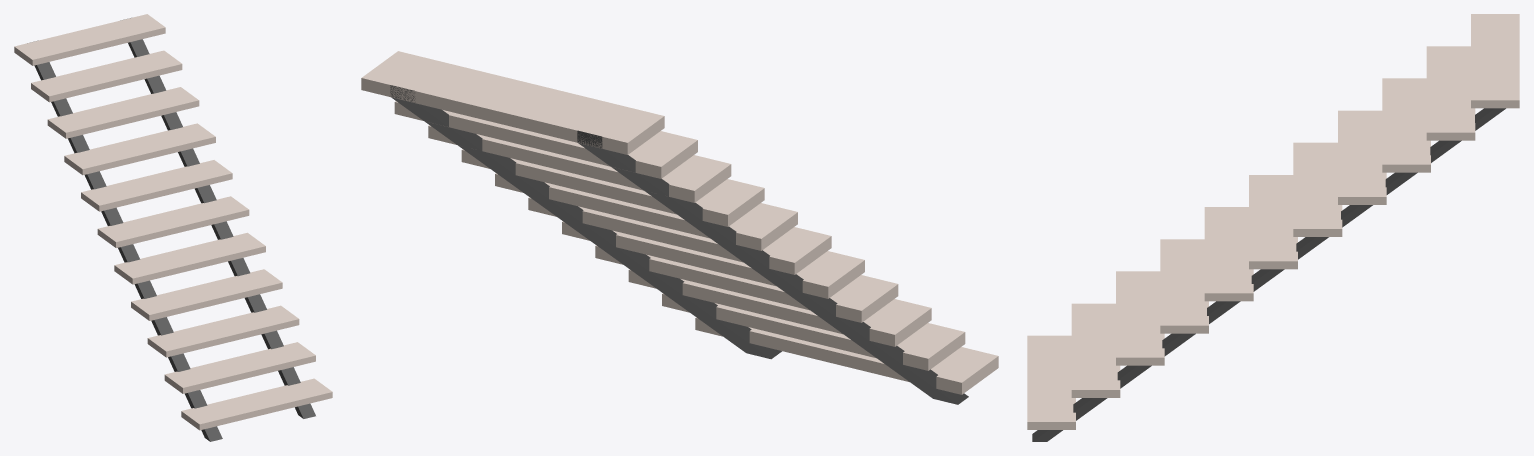
Rendered from Stairs_1.fbx.
3 views of the same model, side by side, from view 1: azimuth 30°, elevation 25°; view 2: azimuth 150°, elevation 25°; view 3: azimuth 270°, elevation 25° (orthographic). The views are drawn at different scales.
Visible parts, largest first — view 1: Stairs_1; view 2: Stairs_1; view 3: Stairs_1.
Part boxes in pixels (x1,y1,x2,y2): Stairs_1: (14, 14, 332, 441); Stairs_1: (361, 51, 998, 404); Stairs_1: (1027, 14, 1519, 441).
Bounding box in the file's own units: 230 × 555 × 437.
